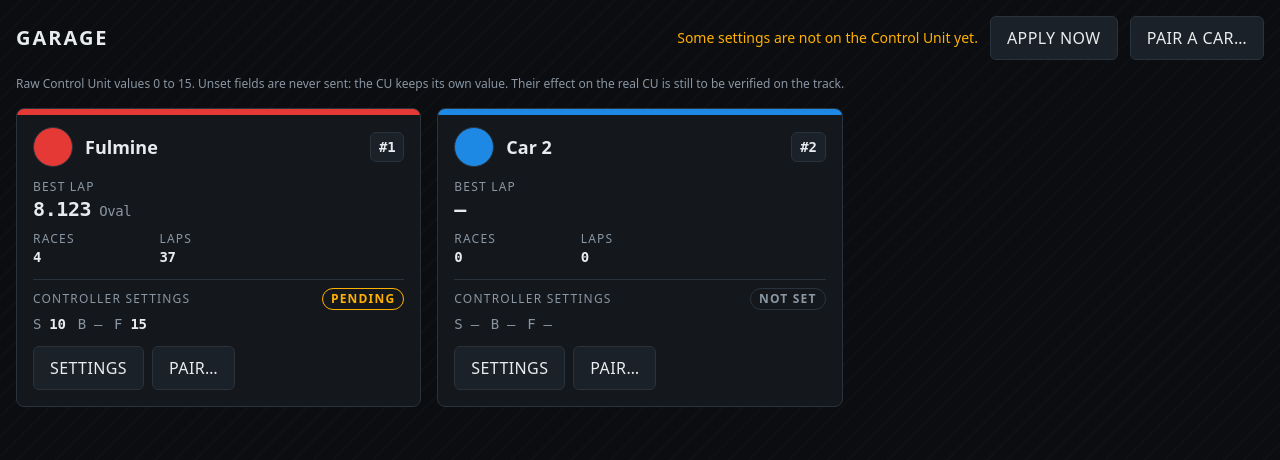
it: Garage page › translates apply errors
Click the button with test id "garage-apply": {"x": 1054, "y": 38} [990,16,1118,60]
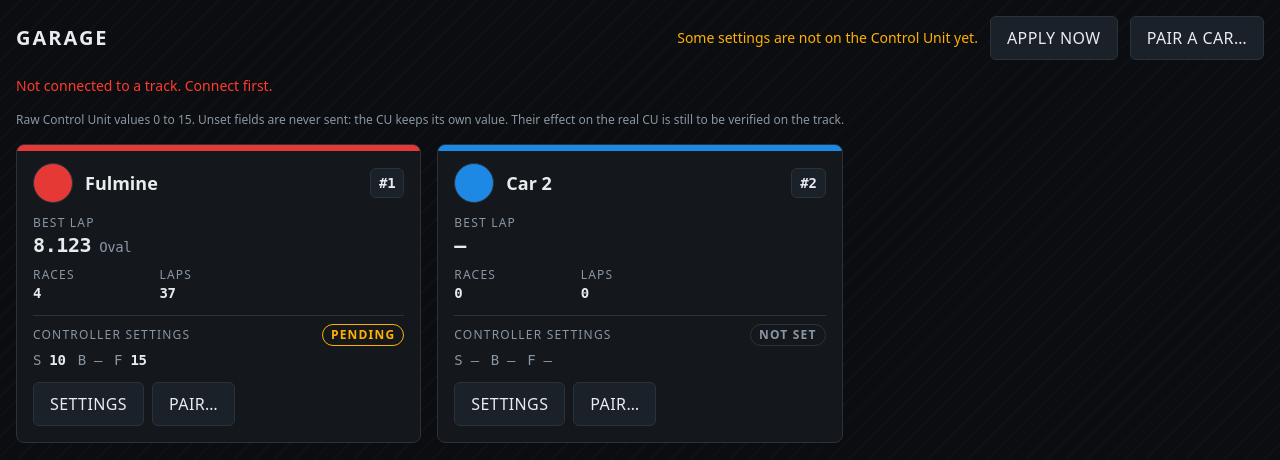
Now the message with test id "garage-apply-error" shows "Not connected to a track", box [16,76,272,95]
Click the button with test id "garage-apply": {"x": 1054, "y": 38} [990,16,1118,60]
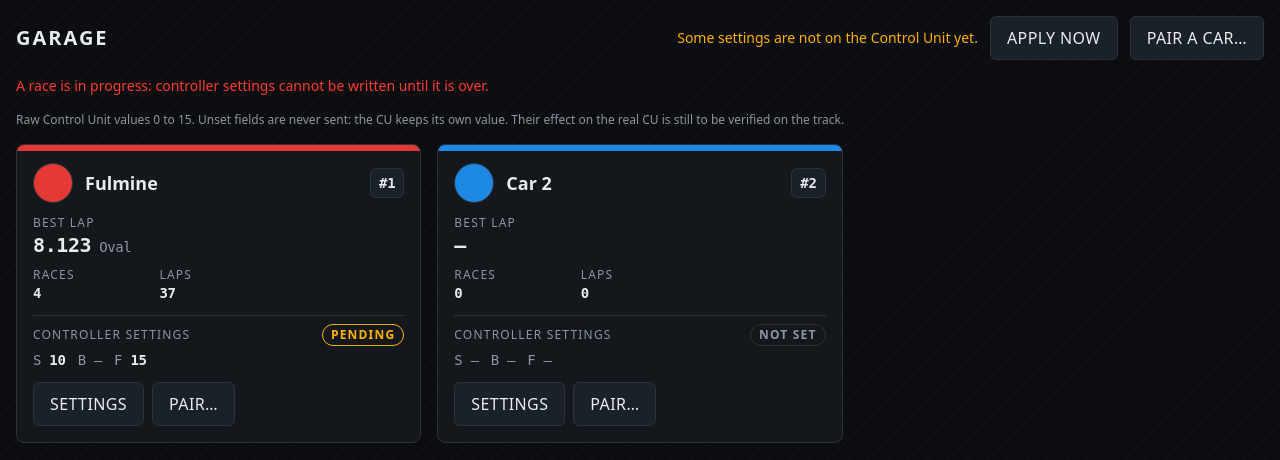
Now the message with test id "garage-apply-error" shows "A race is in progress", box [16,76,489,95]
